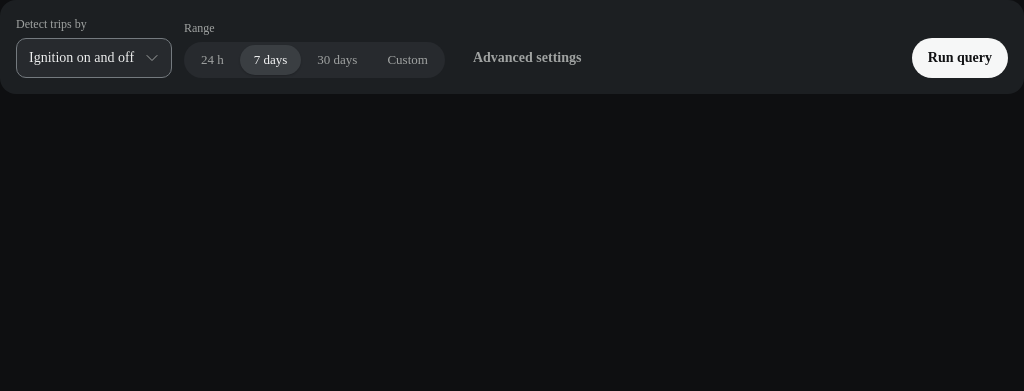
Test case: TripsTab › shows field errors on segments and daily activity instead of empty rows
The width and height of the screenshot is (1024, 391).
Click the button "Run query": (960, 58) 912,38 -> 1008,78
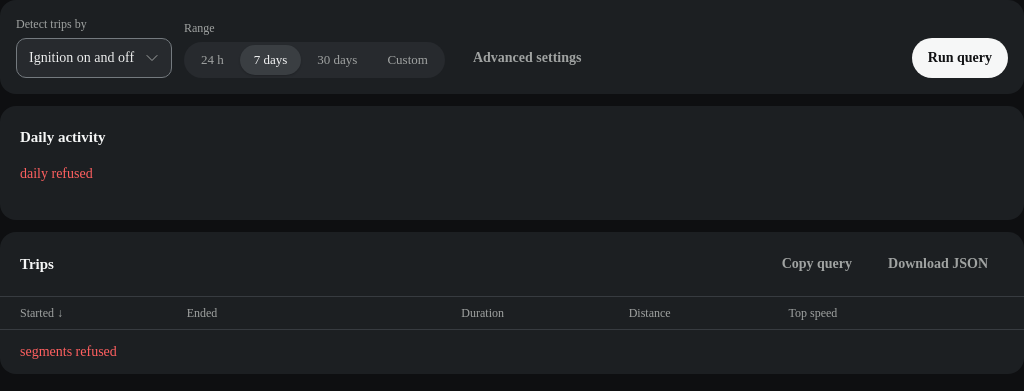
Result: the text "segments refused" is shown at 0,329 -> 1023,374
Result: the text "daily refused" is shown at 20,166 -> 93,181
